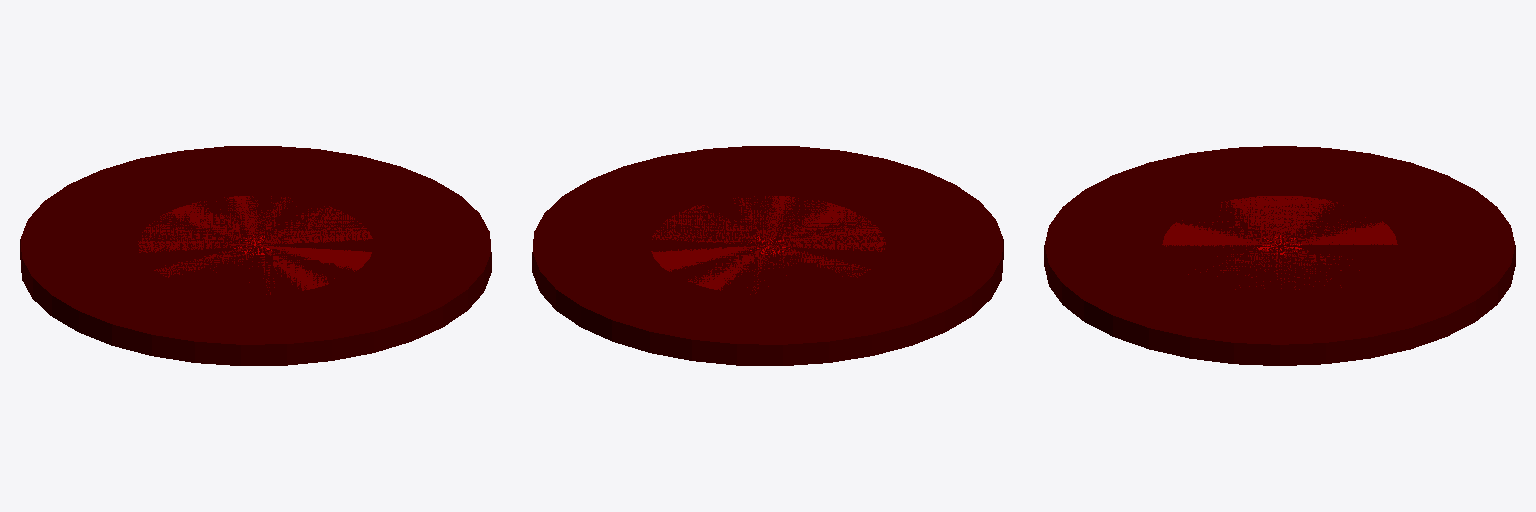
robot.urdf — target:
<?xml version="1.0"?>
<robot name="target">
    <link name="large">
        <inertial>
            <origin xyz="0.0 0.0 0.0" rpy="0.0 0.0 0.0"/>
            <mass value="0.0"/>
            <inertia ixx="0.0" ixy="0.0" ixz="0.0" iyy="0.0" iyz="0.0" izz="0.0"/>
        </inertial>
        <visual>
            <geometry>
                <cylinder radius="1.0" length="0.1"/>
            </geometry>
            <material name="">
                <color rgba="0.3 0.0 0.0 0.5"/>
            </material>
        </visual>
    </link>

    <link name="medium">
        <visual>
            <geometry>
                <cylinder radius="0.5" length="0.1"/>
            </geometry>
            <material name="">
                <color rgba="0.5 0.0 0.0 0.5"/>
            </material>
        </visual>
    </link>

    <link name="small">
        <visual>
            <geometry>
                <cylinder radius="0.1" length="0.1"/>
            </geometry>
            <material name="">
                <color rgba="0.8 0.0 0.0 0.5"/>
            </material>
        </visual>
    </link>

    <joint name="medium2large" type="fixed">
        <parent link="large"/>
        <child link="medium"/>
    </joint>

    <joint name="small2medium" type="fixed">
        <parent link="medium"/>
        <child link="small"/>
    </joint>
</robot>

--- Render facts (derived) ---
Views: 3 orthographic renders of the robot side by side, from view 1: azimuth 30°, elevation 25°; view 2: azimuth 150°, elevation 25°; view 3: azimuth 270°, elevation 25°.
Robot: target — 3 links, 2 joints (2 fixed); root link large; default pose: all joints at 0.
Visible links, largest first — view 1: large, medium; view 2: large, medium; view 3: large, medium.
Boxes of the visible links, <box> form: large: <box>20,146,491,365</box>; medium: <box>138,196,372,294</box>; large: <box>532,146,1003,365</box>; medium: <box>651,196,885,294</box>; large: <box>1044,146,1515,365</box>; medium: <box>1162,196,1397,289</box>.
Bounding box of the posed robot: 2 × 2 × 0.1 m (x, y, z).
Geometry: primitives only (box / cylinder / sphere), no mesh files.